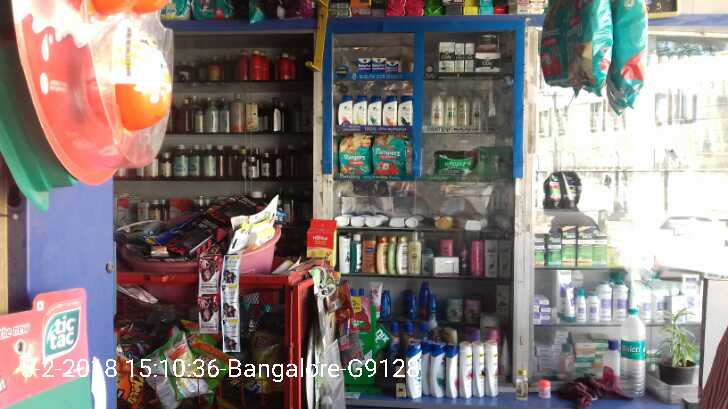beauty: (474, 51, 501, 76), (429, 94, 445, 127), (381, 95, 397, 128), (471, 90, 484, 129), (439, 39, 453, 72), (453, 44, 467, 75), (397, 96, 410, 128), (339, 95, 352, 126), (353, 96, 367, 124), (445, 96, 457, 128), (369, 97, 379, 121)
pharmacy: (373, 134, 413, 177), (338, 136, 370, 178), (434, 152, 473, 177), (371, 56, 386, 76), (387, 59, 403, 76), (357, 56, 370, 75)
